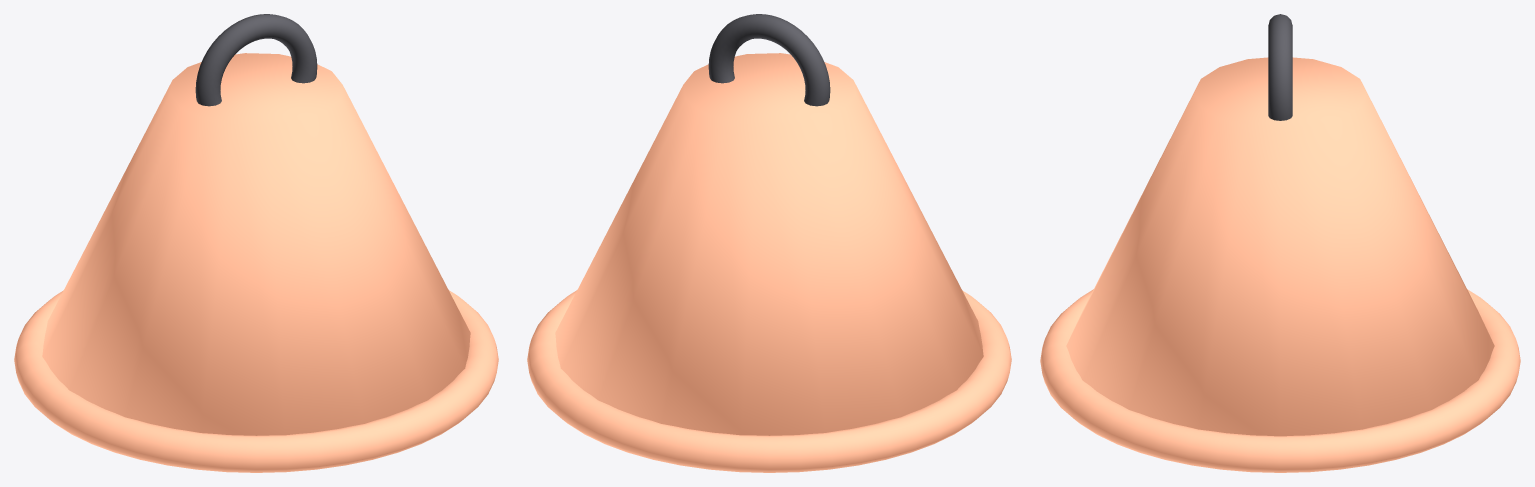
File: prop_abyssal_bell.glb
3 views of the same model, side by side, from view 1: azimuth 30°, elevation 25°; view 2: azimuth 150°, elevation 25°; view 3: azimuth 270°, elevation 25° (orthographic).
Visible parts, largest first — view 1: Cone, Torus, Torus.001; view 2: Cone, Torus, Torus.001; view 3: Cone, Torus, Torus.001.
Boxes of the visible parts, box(x1,y1,x2,y2) form: Cone: box(42, 53, 470, 435); Torus: box(14, 290, 498, 472); Torus.001: box(195, 14, 317, 106); Cone: box(555, 53, 983, 435); Torus: box(527, 290, 1011, 472); Torus.001: box(708, 14, 830, 106); Cone: box(1066, 57, 1494, 436); Torus: box(1040, 289, 1520, 472); Torus.001: box(1268, 14, 1292, 120).
Bounding box in the file's own units: 3.9 × 3.2 × 3.9.
